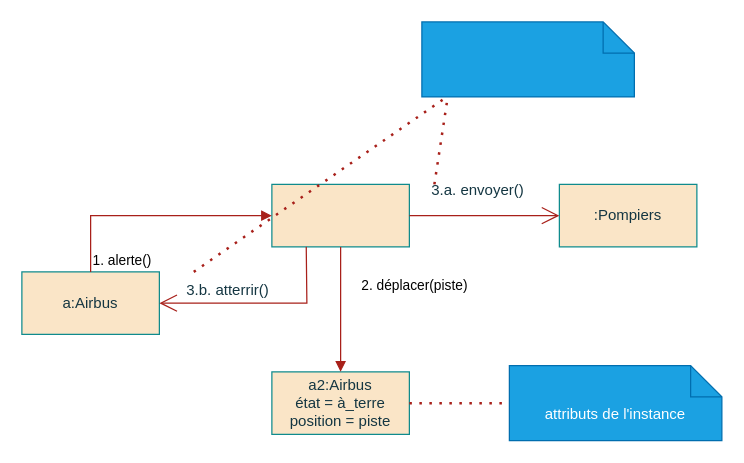
Image size: 744x463. Some labels were removed from this diagram. Each missing label, with the box of its shape:
appels asynchornes: (421, 21, 634, 97)
t:TourDeContrôle: (271, 183, 409, 247)
